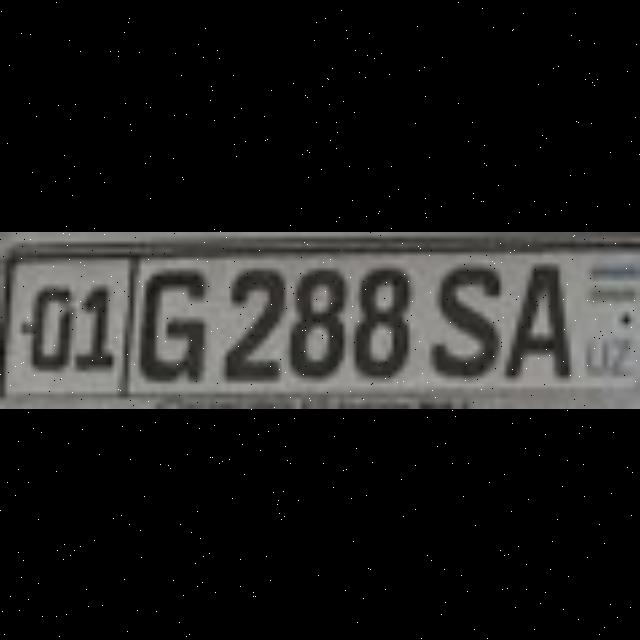0: (27, 279, 65, 365)
1: (75, 274, 107, 366)
2: (220, 263, 280, 371)
8: (285, 264, 339, 376), (350, 258, 398, 370)
A: (500, 258, 560, 370)
G: (140, 263, 198, 371)
S: (430, 263, 490, 365)
